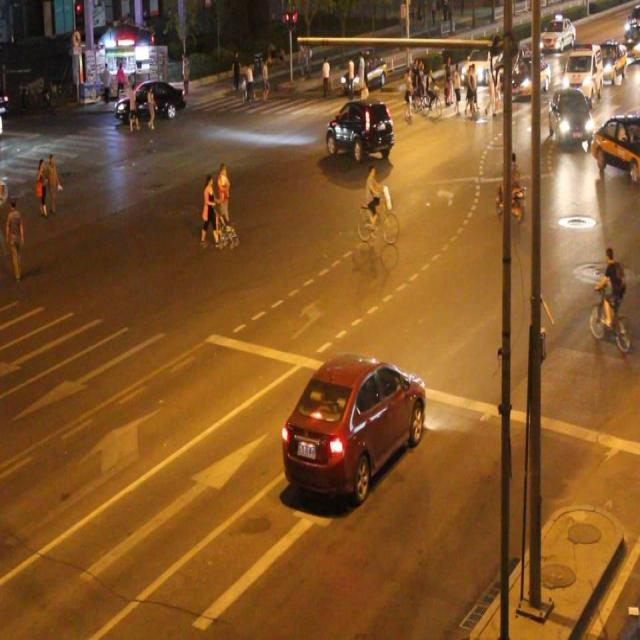car: (283, 354, 424, 496), (326, 97, 393, 157), (590, 110, 640, 183), (116, 81, 185, 122), (546, 88, 592, 143)
